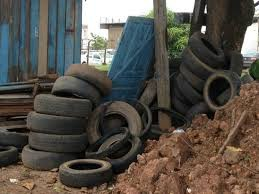tire: (84, 98, 148, 150), (96, 132, 147, 176), (20, 143, 99, 171), (51, 76, 109, 112), (200, 69, 243, 116), (58, 154, 116, 188), (23, 110, 88, 138), (83, 127, 135, 159), (30, 94, 94, 119), (26, 130, 90, 154), (192, 31, 231, 69), (1, 123, 53, 149)
